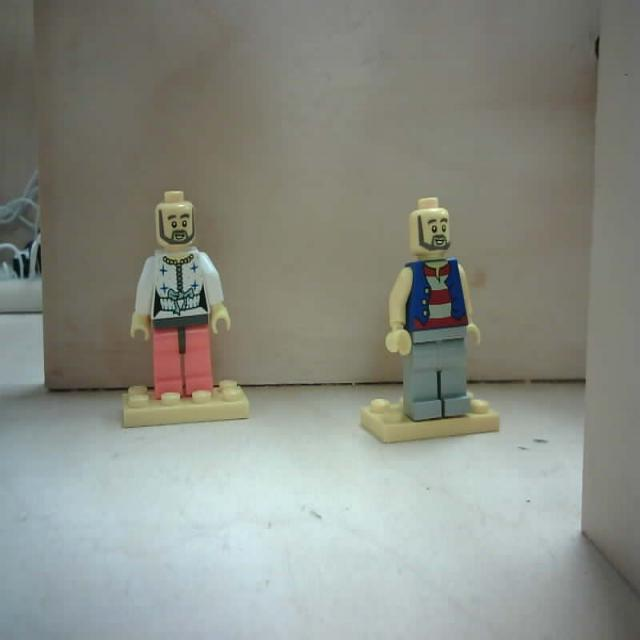Lego-People: (359, 198, 502, 447), (117, 188, 250, 431)
